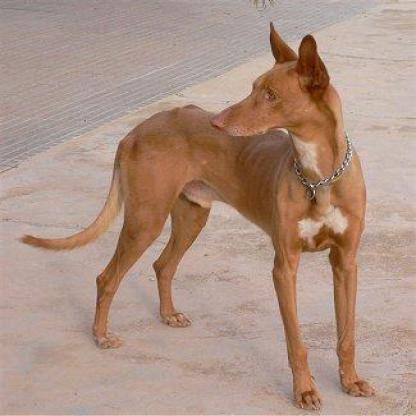dog: (80, 12, 384, 410)
